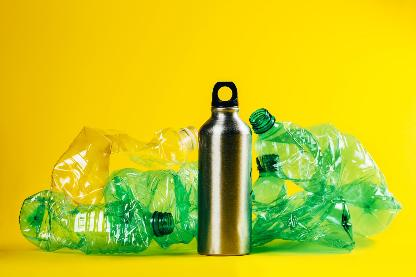Plastic Bottle: (250, 98, 398, 230), (18, 190, 176, 254)
